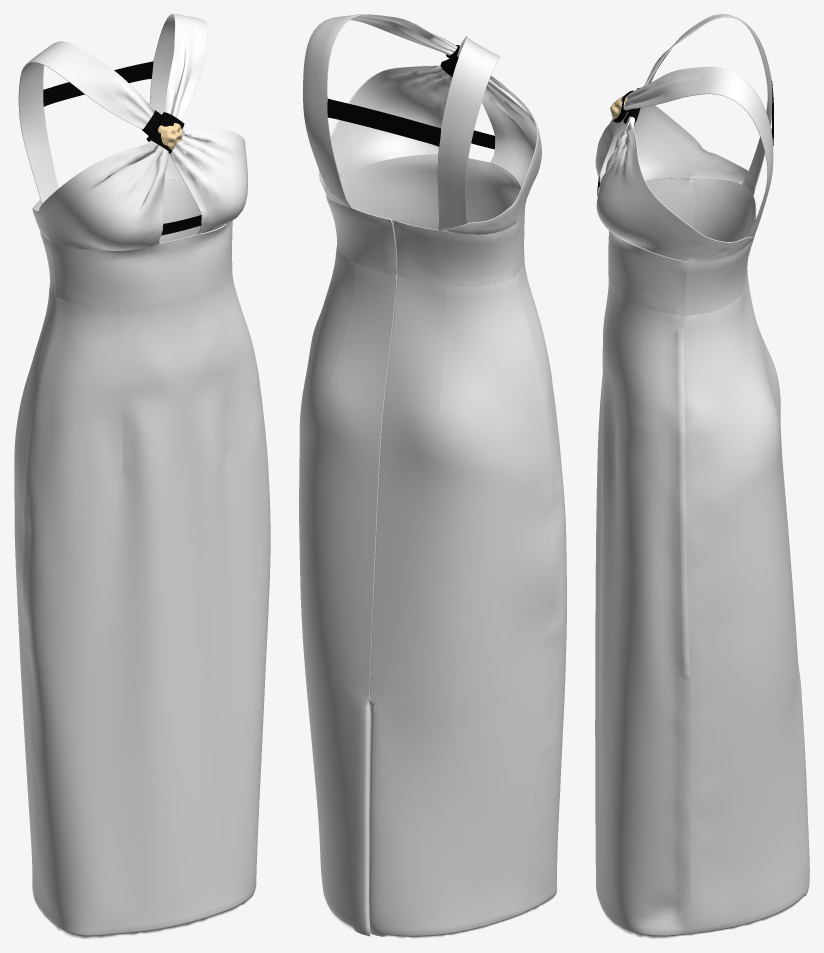
The model's file is white_evening_gown_dress.glb.
3 renders of one model, left to right at view 1: azimuth 30°, elevation 25°; view 2: azimuth 150°, elevation 25°; view 3: azimuth 270°, elevation 25°, orthographic. The views are drawn at different scales.
Visible parts, largest first — view 1: Object_9, Object_6, Object_2, Object_11, Object_8; view 2: Object_8, Object_7, Object_2, Object_9, Object_6, Object_11, Object_3; view 3: Object_7, Object_9, Object_6, Object_11, Object_2, Object_3, Object_8.
Boxes of the visible parts, x1,y1,x2,y2 form: Object_9: (21, 270, 270, 938); Object_6: (32, 14, 207, 250); Object_2: (18, 41, 247, 296); Object_11: (43, 61, 232, 307); Object_8: (14, 286, 55, 912); Object_8: (369, 275, 549, 938); Object_7: (299, 246, 396, 936); Object_2: (318, 36, 516, 700); Object_9: (390, 216, 566, 913); Object_6: (303, 14, 541, 274); Object_11: (327, 45, 525, 277); Object_3: (326, 195, 396, 274); Object_7: (684, 274, 809, 936); Object_9: (595, 275, 690, 938); Object_6: (595, 66, 773, 933); Object_11: (597, 81, 773, 315); Object_2: (596, 14, 798, 666); Object_3: (685, 216, 756, 315); Object_8: (747, 270, 791, 574).
Size of the model in its own units: 351 by 1198 by 274.
Materials: 1 (1 with a texture image).
